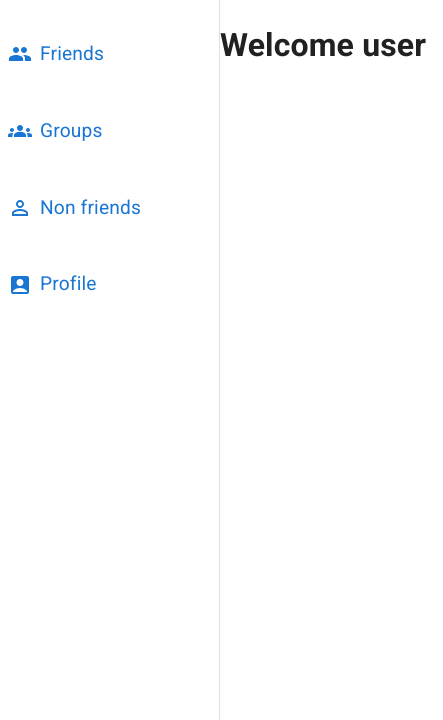
it: navigation-sidebar component › profile icon link › should navigate to '/profile' path when profile link is clicked
This screenshot has width=443, height=720.
Click the link "Profile" at (52, 285), box [8,272,97,297]
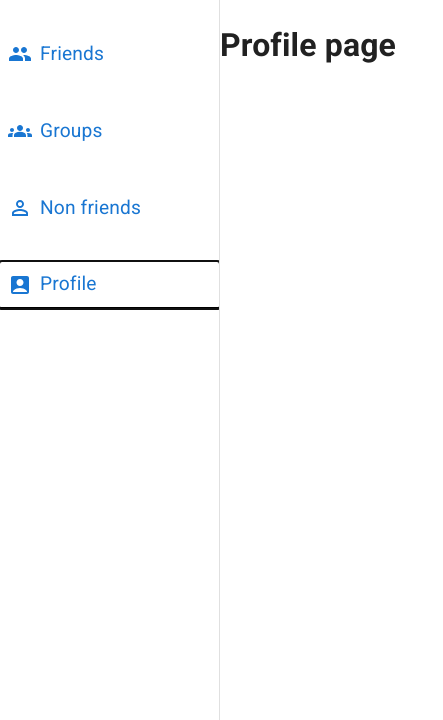
Now the heading "Profile page" is shown, box [220,21,396,69]
